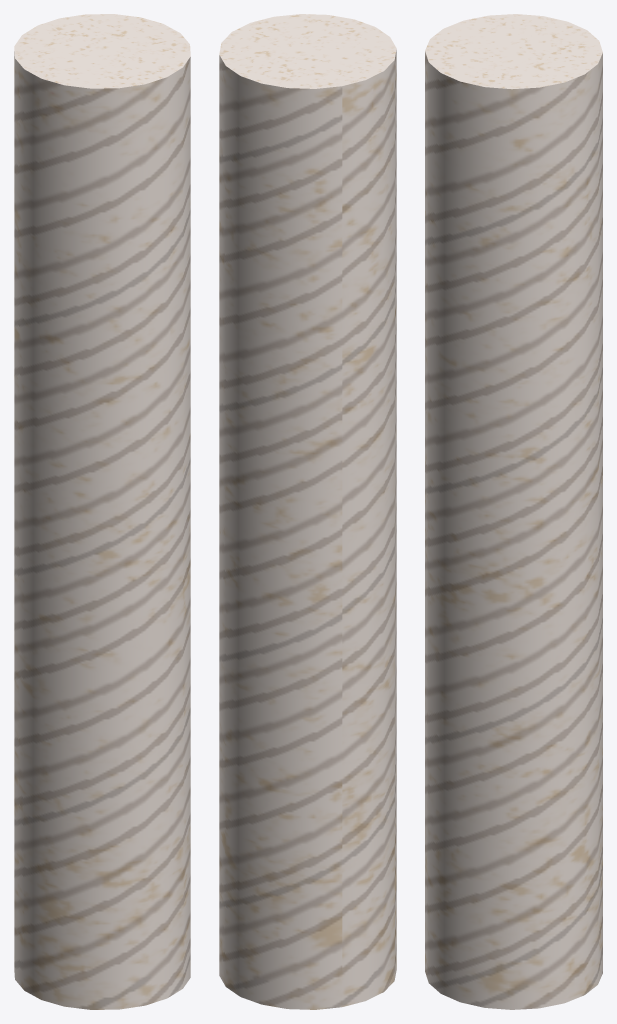
The model's file is hashira_m.fbx.
The picture shows the model from 3 angles, left to right: view 1: azimuth 30°, elevation 25°; view 2: azimuth 150°, elevation 25°; view 3: azimuth 270°, elevation 25°; orthographic projection.
Parts seen in each view (by area): view 1: hashira_M; view 2: hashira_M; view 3: hashira_M.
Part boxes in pixels (box(x1,y1,x2,y2)): hashira_M: box(14, 14, 190, 1009); hashira_M: box(219, 14, 396, 1009); hashira_M: box(425, 14, 602, 1009).
Bounding box in the file's own units: 53.96 × 308 × 53.96.
Materials: 1 (1 with a texture image).
